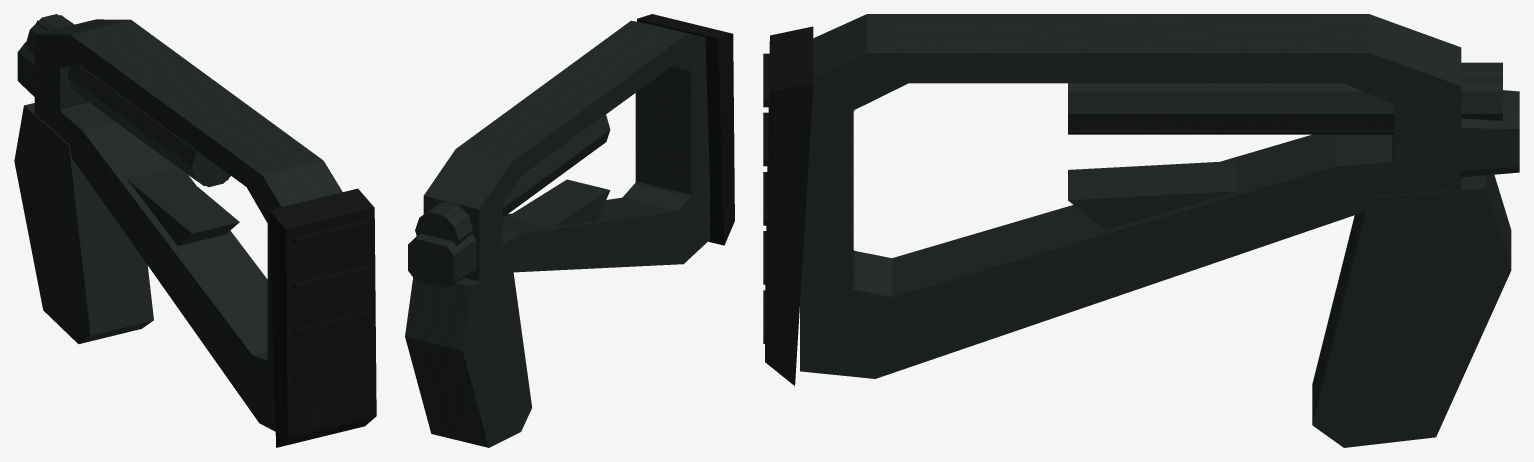
The model's file is 870_tactical.glb.
3 renders of one model, left to right at view 1: azimuth 30°, elevation 25°; view 2: azimuth 150°, elevation 25°; view 3: azimuth 270°, elevation 25°, orthographic. The views are drawn at different scales.
Parts seen in each view (by area): view 1: stock__870_tactical_LOD0_RAID_Secondary_Original_polymer, stock__870_tactical_LOD1_RAID_Secondary_Original_polymer, stock__870_tactical_LOD0_RAID_Secondary_Original_rubber, stock__870_tactical_LOD1_RAID_Secondary_Original_rubber; view 2: stock__870_tactical_LOD0_RAID_Secondary_Original_polymer, stock__870_tactical_LOD1_RAID_Secondary_Original_polymer, stock__870_tactical_LOD0_RAID_Secondary_Original_rubber, stock__870_tactical_LOD1_RAID_Secondary_Original_rubber; view 3: stock__870_tactical_LOD0_RAID_Secondary_Original_polymer, stock__870_tactical_LOD1_RAID_Secondary_Original_polymer, stock__870_tactical_LOD0_RAID_Secondary_Original_rubber, stock__870_tactical_LOD1_RAID_Secondary_Original_rubber.
Part boxes in pixels (x1,y1,x2,y2): stock__870_tactical_LOD0_RAID_Secondary_Original_polymer: [15, 14, 341, 429]; stock__870_tactical_LOD1_RAID_Secondary_Original_polymer: [14, 15, 342, 431]; stock__870_tactical_LOD0_RAID_Secondary_Original_rubber: [269, 190, 374, 446]; stock__870_tactical_LOD1_RAID_Secondary_Original_rubber: [269, 188, 376, 447]; stock__870_tactical_LOD0_RAID_Secondary_Original_polymer: [407, 21, 709, 445]; stock__870_tactical_LOD1_RAID_Secondary_Original_polymer: [405, 20, 709, 447]; stock__870_tactical_LOD0_RAID_Secondary_Original_rubber: [638, 15, 733, 242]; stock__870_tactical_LOD1_RAID_Secondary_Original_rubber: [637, 14, 734, 245]; stock__870_tactical_LOD0_RAID_Secondary_Original_polymer: [801, 15, 1519, 444]; stock__870_tactical_LOD1_RAID_Secondary_Original_polymer: [800, 14, 1511, 447]; stock__870_tactical_LOD0_RAID_Secondary_Original_rubber: [763, 28, 812, 381]; stock__870_tactical_LOD1_RAID_Secondary_Original_rubber: [765, 26, 813, 385].
Size of the model in its own units: 0.08 by 0.26 by 0.452.
2 materials, 2 textured.
